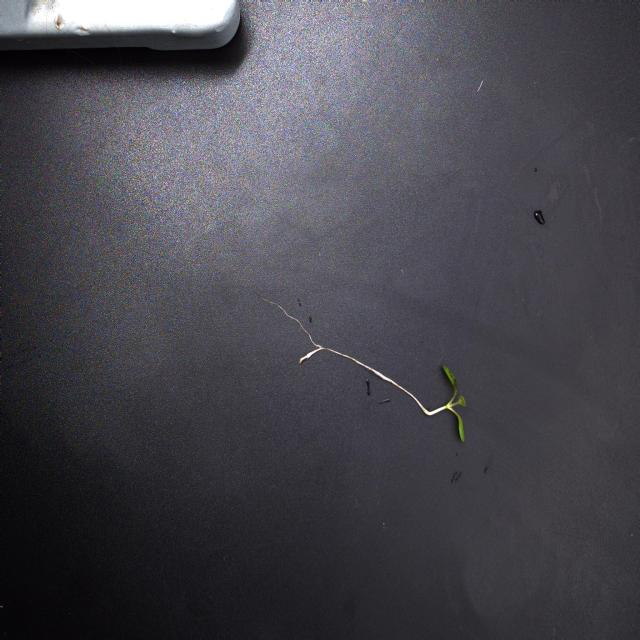leaf: (442, 363, 459, 394)
root: (257, 293, 448, 419)
steb: (445, 394, 457, 415)
